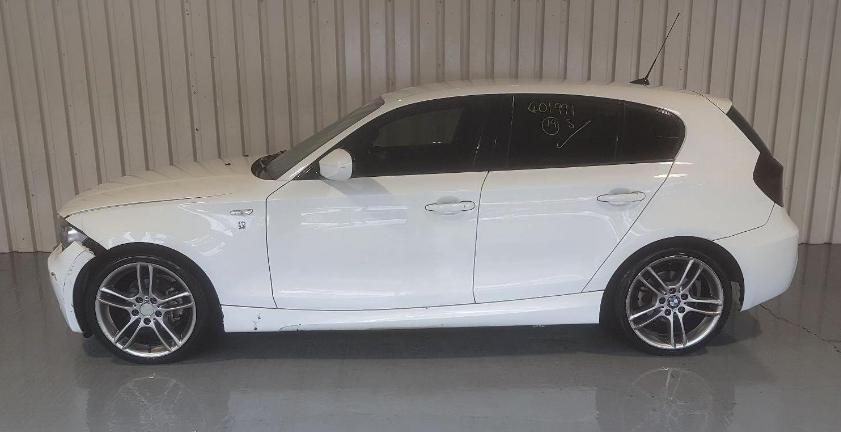Back-bumper: (713, 203, 799, 312)
Back-door: (473, 93, 686, 303)
Back-wheel: (614, 247, 732, 356)
Back-window: (507, 98, 618, 165), (621, 106, 681, 160)
Back-windshield: (728, 105, 775, 157)
Fender: (65, 181, 289, 308)
Front-bumper: (48, 240, 95, 333)
Front-door: (266, 94, 502, 310)
Front-wheel: (85, 256, 209, 364)
Front-window: (353, 98, 491, 172)
Headlight: (56, 214, 87, 248)
Hood: (58, 153, 273, 217)
Mirror: (318, 150, 352, 183)
Quarter-panel: (580, 153, 774, 291)
Rocker-panel: (220, 291, 603, 332)
Roof: (383, 78, 706, 103)
Tail-light: (753, 153, 784, 207)
Trunk: (696, 91, 732, 114)
Windshield: (259, 95, 384, 179)
